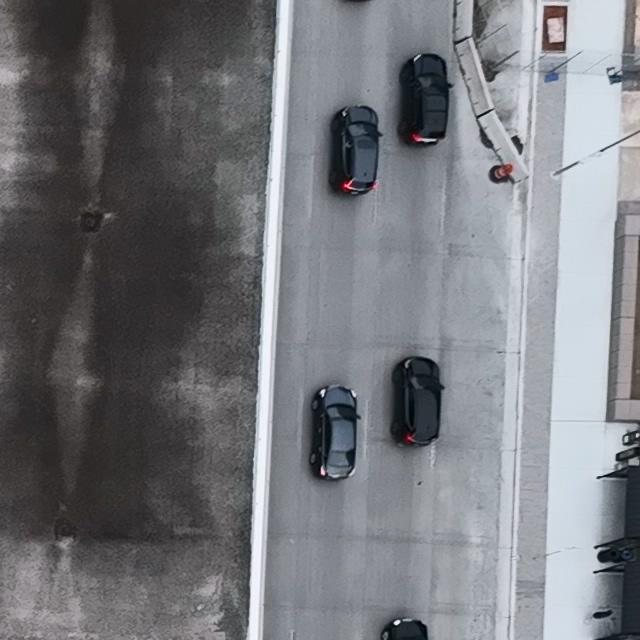car: (397, 53, 453, 147), (309, 385, 362, 482), (391, 355, 445, 448), (329, 104, 383, 196), (380, 617, 428, 640)
